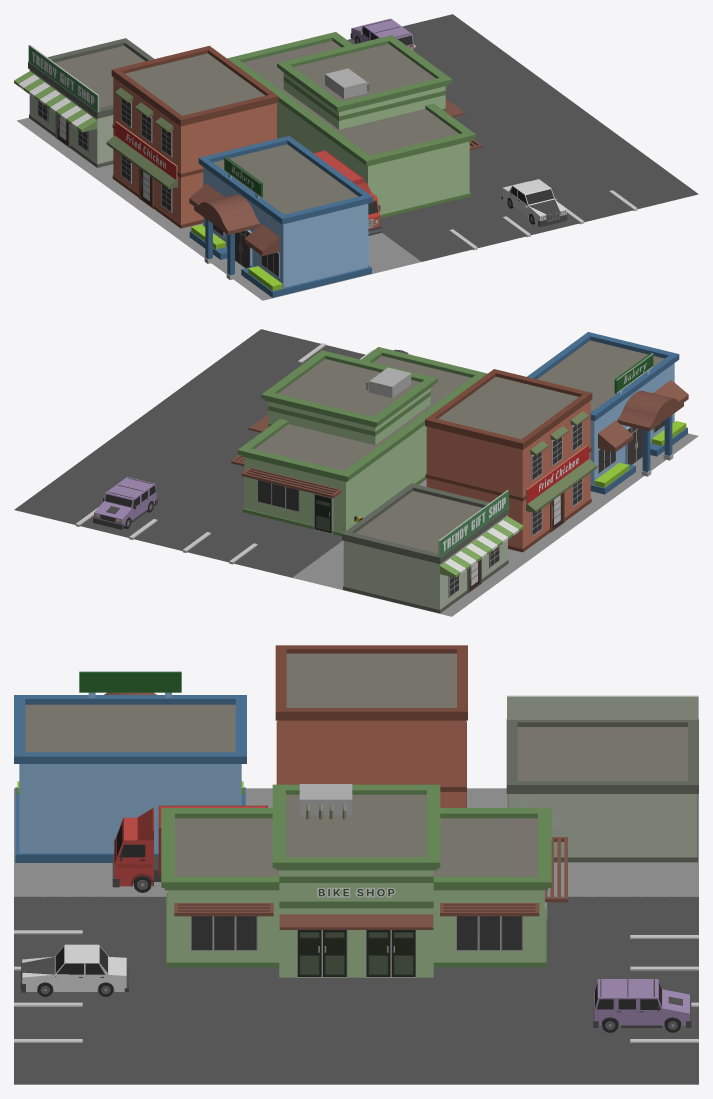
Rendered from bikeshop.gltf.
The picture shows the model from 3 angles, top to bottom: view 1: azimuth 30°, elevation 25°; view 2: azimuth 150°, elevation 25°; view 3: azimuth 270°, elevation 25°; orthographic projection. The views are drawn at different scales.
Parts seen in each view (by area): view 1: Road Tile_Plane.003, Building_Super Market_Cube.025, Building_Bakery_Cube.003, Building_Chicken Shop_Cube.016, Building_Gift Shop_Cube.007, Road Concrete Tile_Plane.010, Vehicle_Car_Cube.050, Vehicle_Container_Cube.056, Vehicle_SUV_Cube.096, Props_Roof_prop_Cylinder.032; view 2: Road Tile_Plane.003, Building_Super Market_Cube.025, Building_Chicken Shop_Cube.016, Building_Gift Shop_Cube.007, Building_Bakery_Cube.003, Road Concrete Tile_Plane.010, Vehicle_SUV_Cube.096, Props_Roof_prop_Cylinder.032; view 3: Road Tile_Plane.003, Building_Super Market_Cube.025, Building_Bakery_Cube.003, Building_Gift Shop_Cube.007, Building_Chicken Shop_Cube.016, Road Concrete Tile_Plane.010, Vehicle_SUV_Cube.096, Vehicle_Car_Cube.050, Vehicle_Container_Cube.056, Props_Roof_prop_Cylinder.032.
Part boxes in pixels (box(x1,y1,x2,y2)): Road Tile_Plane.003: box(347, 14, 698, 261); Building_Super Market_Cube.025: box(227, 32, 482, 218); Building_Bakery_Cube.003: box(189, 136, 372, 297); Building_Chicken Shop_Cube.016: box(106, 45, 278, 228); Building_Gift Shop_Cube.007: box(14, 38, 154, 167); Road Concrete Tile_Plane.010: box(17, 117, 421, 300); Vehicle_Car_Cube.050: box(501, 179, 567, 226); Vehicle_Container_Cube.056: box(313, 150, 381, 235); Vehicle_SUV_Cube.096: box(350, 18, 413, 50); Props_Roof_prop_Cylinder.032: box(325, 68, 369, 98); Road Tile_Plane.003: box(14, 329, 426, 577); Building_Super Market_Cube.025: box(231, 347, 487, 536); Building_Chicken Shop_Cube.016: box(425, 369, 597, 552); Building_Gift Shop_Cube.007: box(342, 483, 523, 613); Building_Bakery_Cube.003: box(527, 332, 688, 494); Road Concrete Tile_Plane.010: box(292, 433, 698, 616); Vehicle_SUV_Cube.096: box(93, 477, 157, 529); Props_Roof_prop_Cylinder.032: box(366, 367, 411, 397); Road Tile_Plane.003: box(14, 896, 698, 1084); Building_Super Market_Cube.025: box(161, 784, 567, 977); Building_Bakery_Cube.003: box(14, 671, 246, 862); Building_Gift Shop_Cube.007: box(506, 695, 698, 862); Building_Chicken Shop_Cube.016: box(275, 645, 467, 807); Road Concrete Tile_Plane.010: box(14, 788, 698, 896); Vehicle_SUV_Cube.096: box(593, 979, 691, 1032); Vehicle_Car_Cube.050: box(20, 944, 128, 996); Vehicle_Container_Cube.056: box(112, 805, 267, 892); Props_Roof_prop_Cylinder.032: box(299, 784, 352, 819).
Size of the model in its own units: 41.85 by 9.86 by 40.
Materials: 12 (12 with a texture image).
